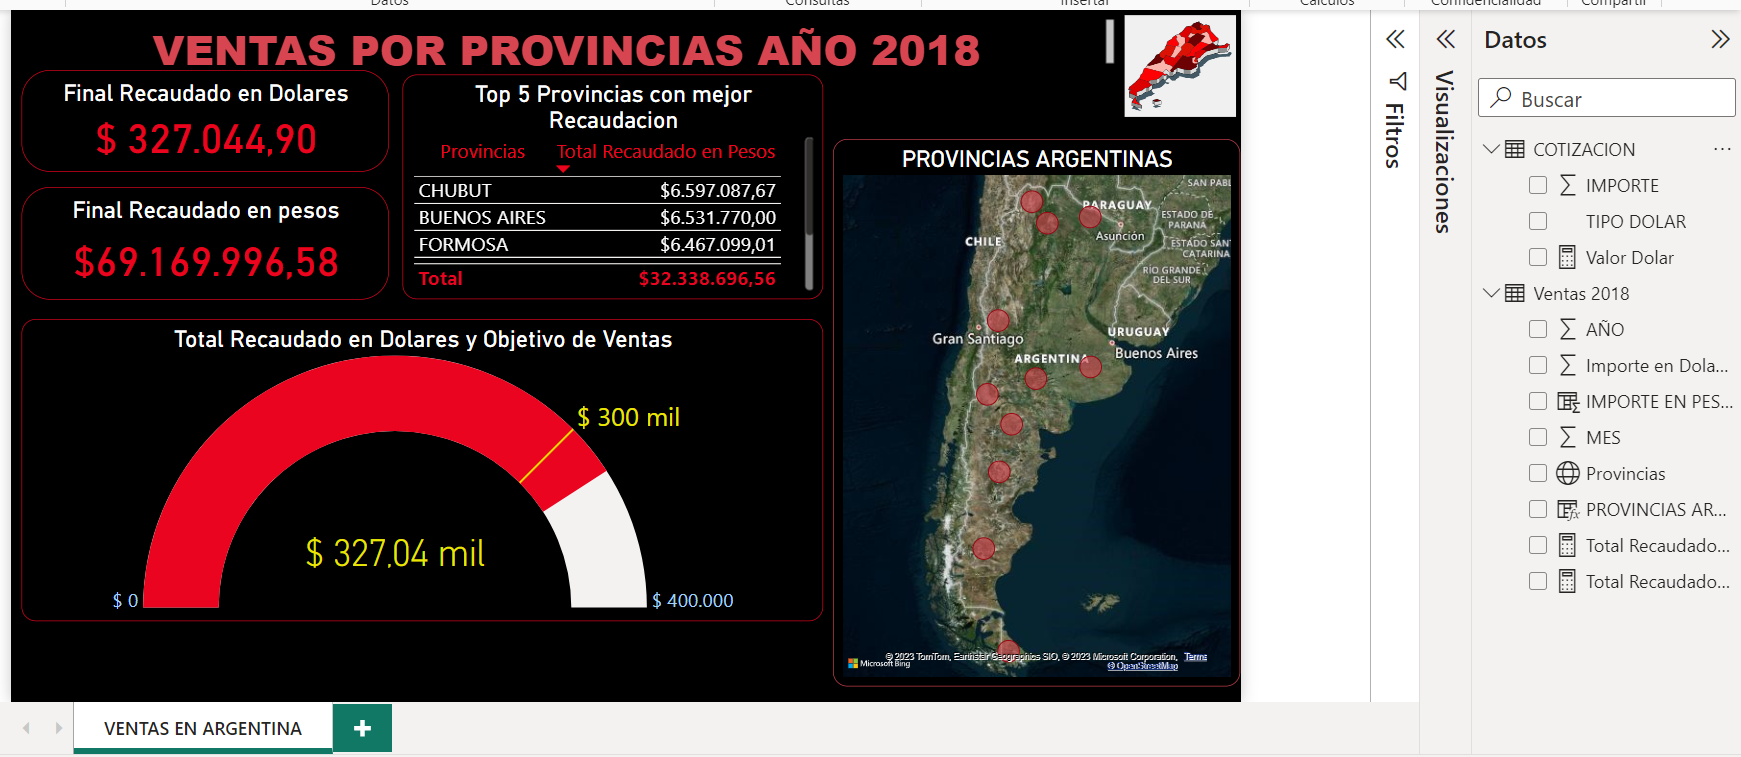

The page's visual inventory and layout, read from the dashboard file:
{"tool":"powerbi","page":{"name":"VENTAS EN ARGENTINA","canvas":[1280,720],"ordinal":0},"visuals":[{"type":"card","title":"Final Recaudado en Dolares","fields":{"Values":["Ventas 2018.Total Recaudado en Dolares"]},"box":[11.3,62.4,382.7,106.3],"z":0},{"type":"card","title":" Final Recaudado en pesos","fields":{"Values":["Ventas 2018.Total Recaudado en Pesos"]},"box":[11.3,184.3,382.7,117.6],"z":1000},{"type":"tableEx","title":"Top 5 Provincias con mejor Recaudacion","fields":{"Values":["Ventas 2018.Provincias","Ventas 2018.Total Recaudado en Pesos"]},"box":[408.2,66.6,438,233.9],"z":2000},{"type":"gauge","title":"Total Recaudado en Dolares y Objetivo de Ventas","fields":{"Y":["Ventas 2018.Total Recaudado en Dolares"]},"box":[11.3,321.7,834.8,314.6],"z":3000},{"type":"map","fields":{"Category":["Ventas 2018.PROVINCIAS ARGENTINAS"]},"box":[856.1,134.6,423.8,569.8],"z":4000},{"type":"image","box":[1153.7,0,126.1,116.2],"z":5000},{"type":"textbox","box":[11.3,4.3,1142.4,62.4],"z":6000}]}

Visuals, with their boxes on the page's 1280x720 design canvas (x1, y1, x2, y2). These are canvas units, not pixel positions in the 1741x757 screenshot, which may show the page scaled, cropped or inside an application window:
"Final Recaudado en Dolares" card: locate(11, 62, 394, 169)
" Final Recaudado en pesos" card: locate(11, 184, 394, 302)
"Top 5 Provincias con mejor Recaudacion" tableEx: locate(408, 67, 846, 300)
"Total Recaudado en Dolares y Objetivo de Ventas" gauge: locate(11, 322, 846, 636)
map - Ventas 2018.PROVINCIAS ARGENTINAS: locate(856, 135, 1280, 704)
image: locate(1154, 0, 1280, 116)
textbox: locate(11, 4, 1154, 67)
